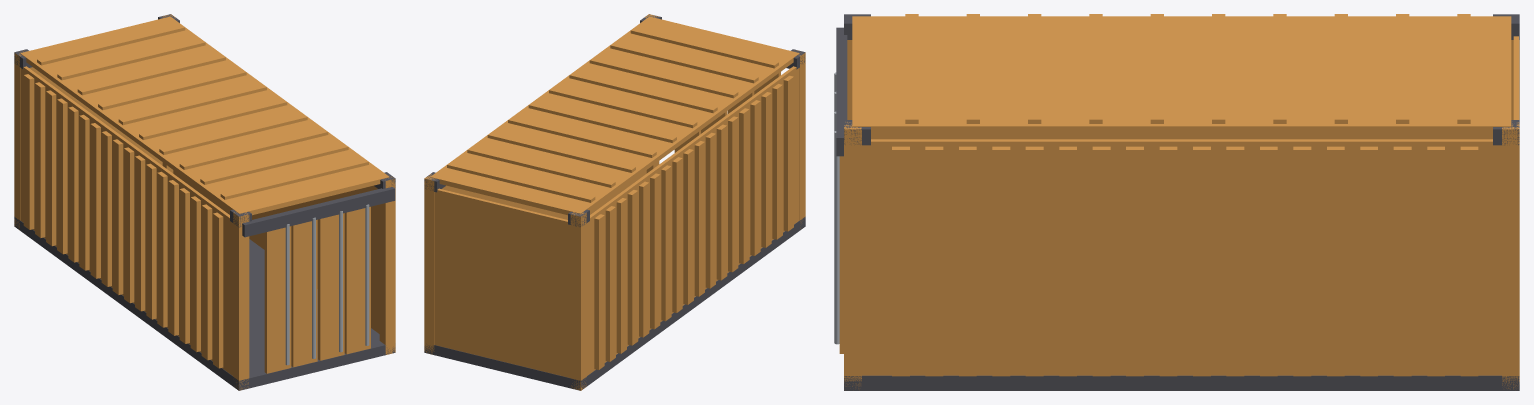
File: bt-d2-container-orange.glb
3 renders of one model, left to right at view 1: azimuth 30°, elevation 25°; view 2: azimuth 150°, elevation 25°; view 3: azimuth 270°, elevation 25°, orthographic. The views are drawn at different scales.
Visible parts, largest first — view 1: bt-d2-container-orange_roof, bt-d2-container-orange_side-1, bt-d2-container-orange_floor, bt-d2-container-orange_door0, bt-d2-container-orange_door3, bt-d2-container-orange_door1, bt-d2-container-orange_door2, bt-d2-container-orange_post-11, bt-d2-container-orange_post11, bt-d2-container-orange_header, bt-d2-container-orange_side1, bt-d2-container-orange_rib-1_16 (+33 smaller); view 2: bt-d2-container-orange_roof, bt-d2-container-orange_front, bt-d2-container-orange_side-1, bt-d2-container-orange_floor, bt-d2-container-orange_post-1-1, bt-d2-container-orange_post1-1, bt-d2-container-orange_rib-1_3, bt-d2-container-orange_rib-1_11, bt-d2-container-orange_rib-1_2, bt-d2-container-orange_rib-1_5, bt-d2-container-orange_rib-1_6, bt-d2-container-orange_rib-1_12 (+24 smaller); view 3: bt-d2-container-orange_side1, bt-d2-container-orange_roof, bt-d2-container-orange_floor, bt-d2-container-orange_post1-1, bt-d2-container-orange_post11, bt-d2-container-orange_rib1_2, bt-d2-container-orange_rib1_5, bt-d2-container-orange_rib1_7, bt-d2-container-orange_rib1_11, bt-d2-container-orange_rib1_13, bt-d2-container-orange_rib1_14, bt-d2-container-orange_rib1_16 (+25 smaller).
Part boxes in pixels (box(x1,y1,x2,y2)): bt-d2-container-orange_roof: box(20, 16, 389, 215); bt-d2-container-orange_side-1: box(20, 66, 232, 375); bt-d2-container-orange_floor: box(14, 216, 395, 390); bt-d2-container-orange_door0: box(264, 226, 291, 373); bt-d2-container-orange_door3: box(344, 206, 370, 354); bt-d2-container-orange_door1: box(291, 219, 317, 367); bt-d2-container-orange_door2: box(318, 213, 344, 360); bt-d2-container-orange_post-11: box(233, 212, 249, 390); bt-d2-container-orange_post11: box(379, 177, 395, 354); bt-d2-container-orange_header: box(242, 187, 395, 237); bt-d2-container-orange_side1: box(173, 170, 379, 333); bt-d2-container-orange_rib-1_16: box(201, 204, 212, 360); bt-d2-container-orange_roof: box(430, 16, 799, 215); bt-d2-container-orange_front: box(434, 188, 570, 377); bt-d2-container-orange_side-1: box(587, 66, 799, 375); bt-d2-container-orange_floor: box(424, 216, 805, 390); bt-d2-container-orange_post-1-1: box(570, 212, 586, 390); bt-d2-container-orange_post1-1: box(424, 174, 434, 354); bt-d2-container-orange_rib-1_3: box(627, 190, 638, 345); bt-d2-container-orange_rib-1_11: box(716, 124, 727, 280); bt-d2-container-orange_rib-1_2: box(616, 198, 626, 353); bt-d2-container-orange_rib-1_5: box(650, 173, 660, 329); bt-d2-container-orange_rib-1_6: box(661, 165, 671, 321); bt-d2-container-orange_rib-1_12: box(728, 116, 738, 272); bt-d2-container-orange_side1: box(862, 139, 1501, 375); bt-d2-container-orange_roof: box(852, 16, 1511, 133); bt-d2-container-orange_floor: box(844, 375, 1519, 390); bt-d2-container-orange_post1-1: box(1502, 122, 1519, 389); bt-d2-container-orange_post11: box(844, 122, 861, 388); bt-d2-container-orange_rib1_2: box(1393, 146, 1411, 376); bt-d2-container-orange_rib1_5: box(1293, 146, 1311, 376); bt-d2-container-orange_rib1_7: box(1226, 146, 1244, 376); bt-d2-container-orange_rib1_11: box(1092, 146, 1110, 376); bt-d2-container-orange_rib1_13: box(1025, 146, 1043, 376); bt-d2-container-orange_rib1_14: box(992, 146, 1010, 376); bt-d2-container-orange_rib1_16: box(925, 146, 943, 376).
Size of the model in its own units: 2.57 by 2.64 by 6.15.
